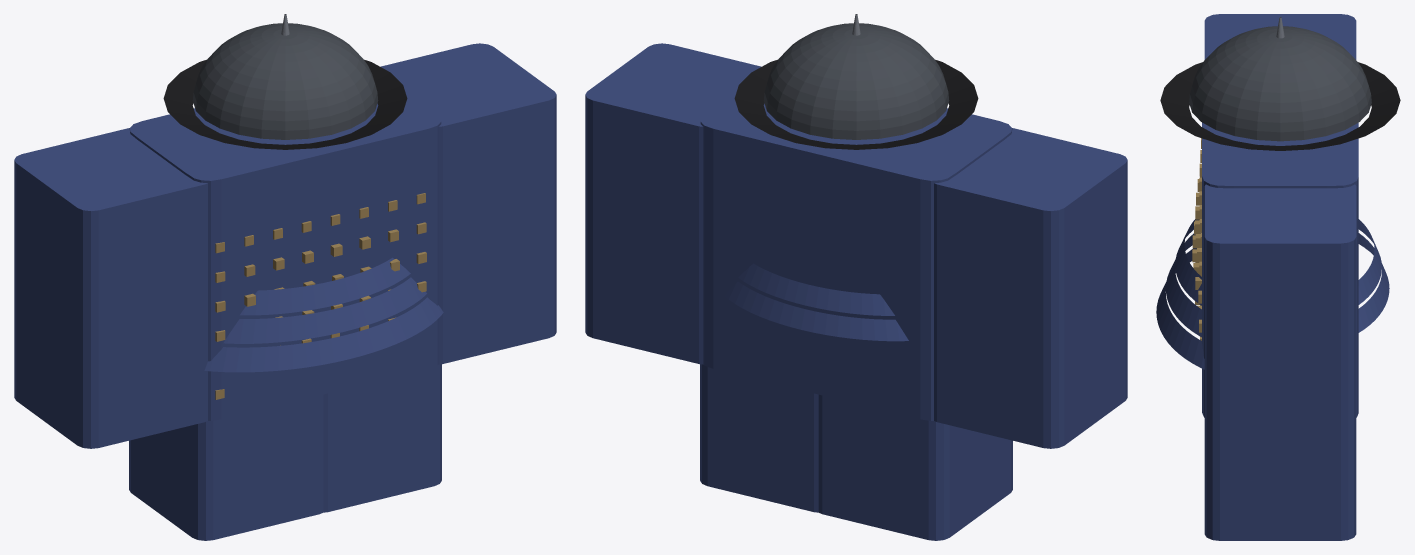
File: ming.obj
The picture shows the model from 3 angles, left to right: view 1: azimuth 30°, elevation 25°; view 2: azimuth 150°, elevation 25°; view 3: azimuth 270°, elevation 25°; orthographic projection.
Parts seen in each view (by area): view 1: under_arm_L, under_torso, under_arm_R, under_leg_L, ming_skull, under_leg_R, fauld_front_2, fauld_front_1, ming_brim, fauld_front_0, brigandine_rivets; view 2: under_torso, under_arm_L, under_arm_R, under_leg_L, ming_skull, under_leg_R, ming_brim, fauld_back_1, fauld_back_0; view 3: under_arm_R, ming_skull, under_leg_R, under_torso, ming_brim, under_arm_L, fauld_front_2, fauld_front_1, fauld_back_1, brigandine_rivets, fauld_front_0, fauld_back_0.
Boxes of the visible parts, bbox=[...] form: under_arm_L: bbox=[14, 128, 207, 448]; under_torso: bbox=[129, 92, 441, 420]; under_arm_R: bbox=[380, 43, 556, 364]; under_leg_L: bbox=[129, 394, 323, 540]; ming_skull: bbox=[192, 23, 378, 139]; under_leg_R: bbox=[323, 364, 441, 512]; fauld_front_2: bbox=[204, 297, 443, 372]; fauld_front_1: bbox=[223, 277, 426, 343]; ming_brim: bbox=[163, 59, 407, 149]; fauld_front_0: bbox=[240, 257, 410, 315]; brigandine_rivets: bbox=[215, 193, 426, 399]; under_torso: bbox=[700, 92, 1012, 420]; under_arm_L: bbox=[934, 128, 1127, 448]; under_arm_R: bbox=[585, 43, 761, 364]; under_leg_L: bbox=[818, 394, 1012, 540]; ming_skull: bbox=[763, 23, 949, 139]; under_leg_R: bbox=[700, 364, 818, 512]; ming_brim: bbox=[734, 59, 978, 149]; fauld_back_1: bbox=[724, 281, 908, 341]; fauld_back_0: bbox=[738, 263, 894, 315]; under_arm_R: bbox=[1204, 184, 1356, 477]; ming_skull: bbox=[1189, 26, 1371, 141]; under_leg_R: bbox=[1204, 471, 1356, 540]; under_torso: bbox=[1202, 122, 1358, 417]; ming_brim: bbox=[1160, 62, 1400, 150]; under_arm_L: bbox=[1204, 14, 1356, 59]; fauld_front_2: bbox=[1156, 248, 1204, 369]; fauld_front_1: bbox=[1165, 232, 1201, 337]; fauld_back_1: bbox=[1358, 233, 1389, 332]; brigandine_rivets: bbox=[1192, 138, 1201, 340]; fauld_front_0: bbox=[1175, 219, 1201, 305]; fauld_back_0: bbox=[1358, 219, 1381, 304].
Size of the model in its own units: 4.16 by 3.93 by 1.87.
